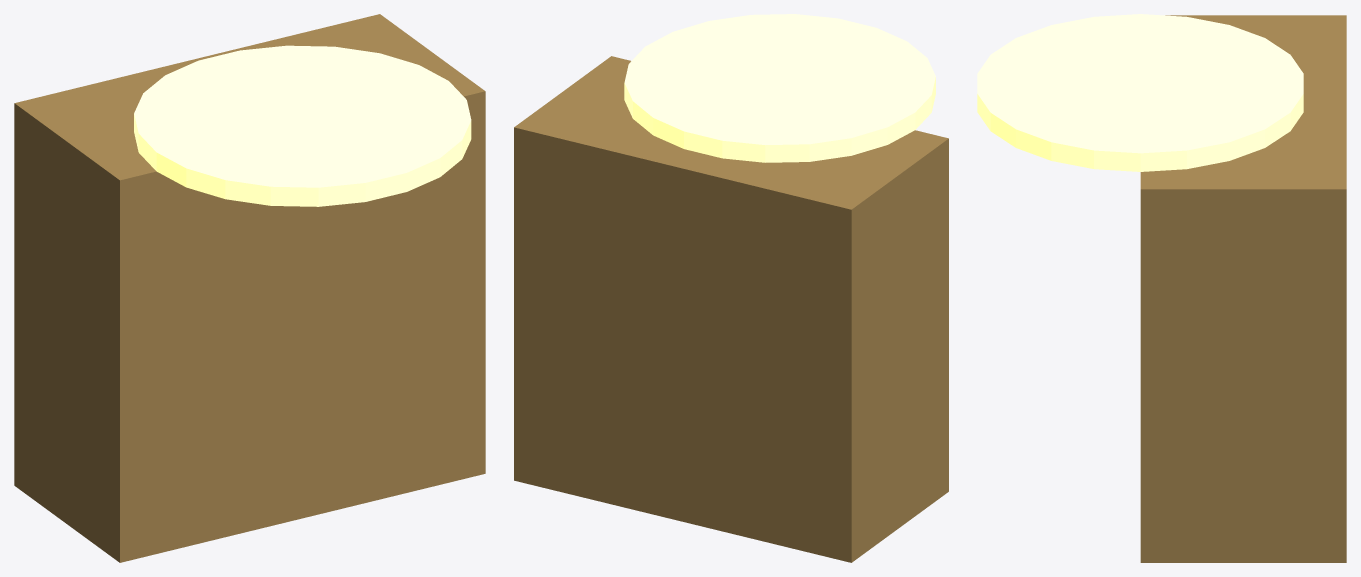
The model's file is TimedPulse_VerticalSlab.glb.
The picture shows the model from 3 angles, left to right: view 1: azimuth 30°, elevation 25°; view 2: azimuth 150°, elevation 25°; view 3: azimuth 270°, elevation 25°; orthographic projection. The views are drawn at different scales.
Parts seen in each view (by area): view 1: TimedPulse_VerticalSlab_body, glow_disc.008; view 2: TimedPulse_VerticalSlab_body, glow_disc.008; view 3: TimedPulse_VerticalSlab_body, glow_disc.008.
Part boxes in pixels (x1,y1,x2,y2): TimedPulse_VerticalSlab_body: (14, 14, 485, 562); glow_disc.008: (134, 45, 471, 206); TimedPulse_VerticalSlab_body: (514, 56, 948, 562); glow_disc.008: (624, 14, 935, 162); TimedPulse_VerticalSlab_body: (1140, 15, 1346, 562); glow_disc.008: (977, 14, 1303, 171).
Size of the model in its own units: 1 by 1.05 by 0.8959.
